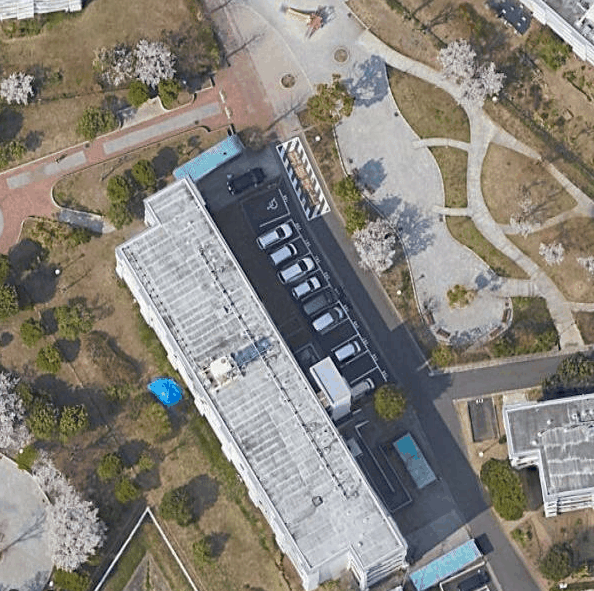flatroof: (93, 175, 392, 583)
parkinglot: (202, 152, 404, 420)
